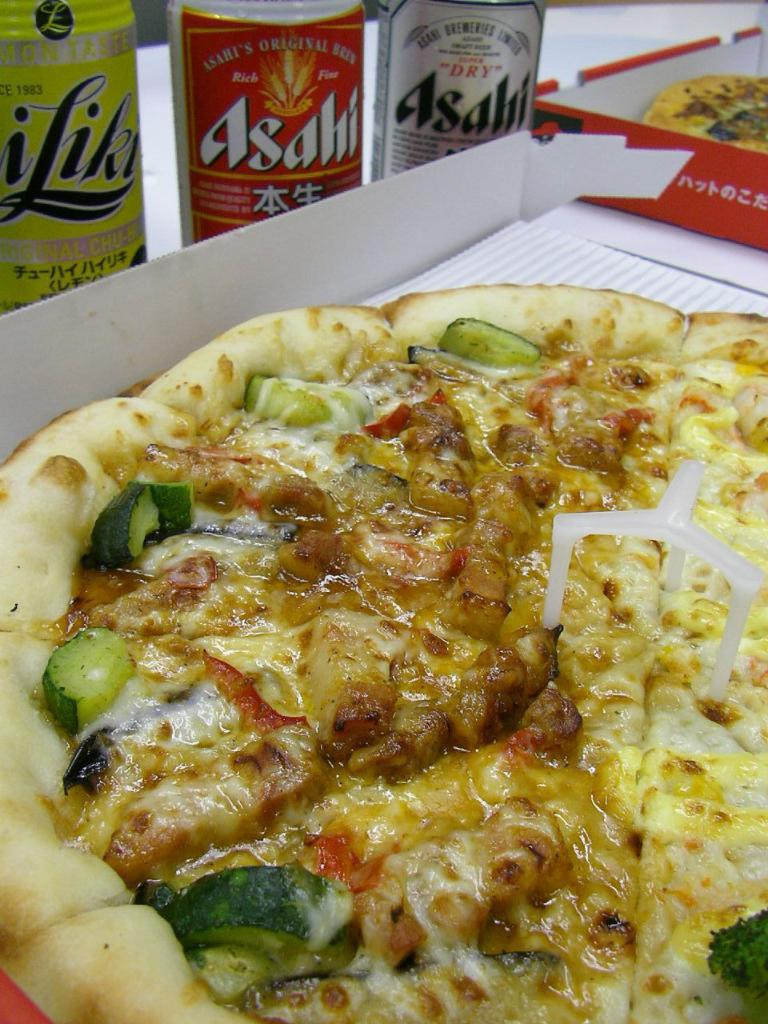Pizza: (0, 259, 768, 1001)
